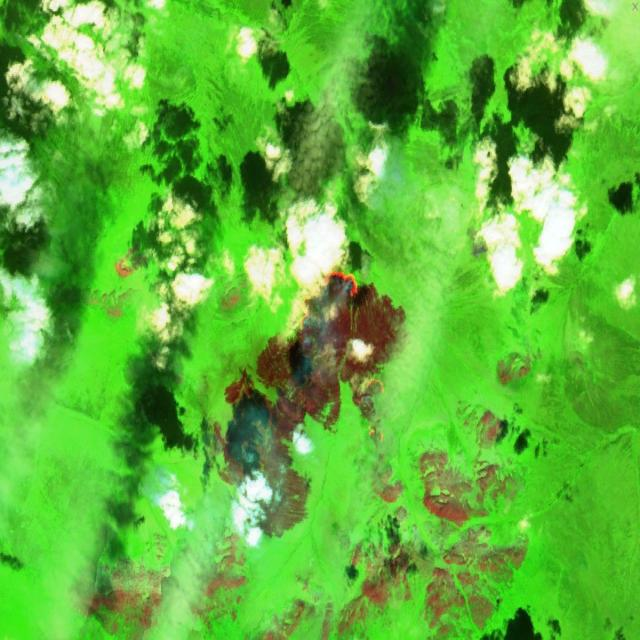fire: (356, 372, 398, 446)
